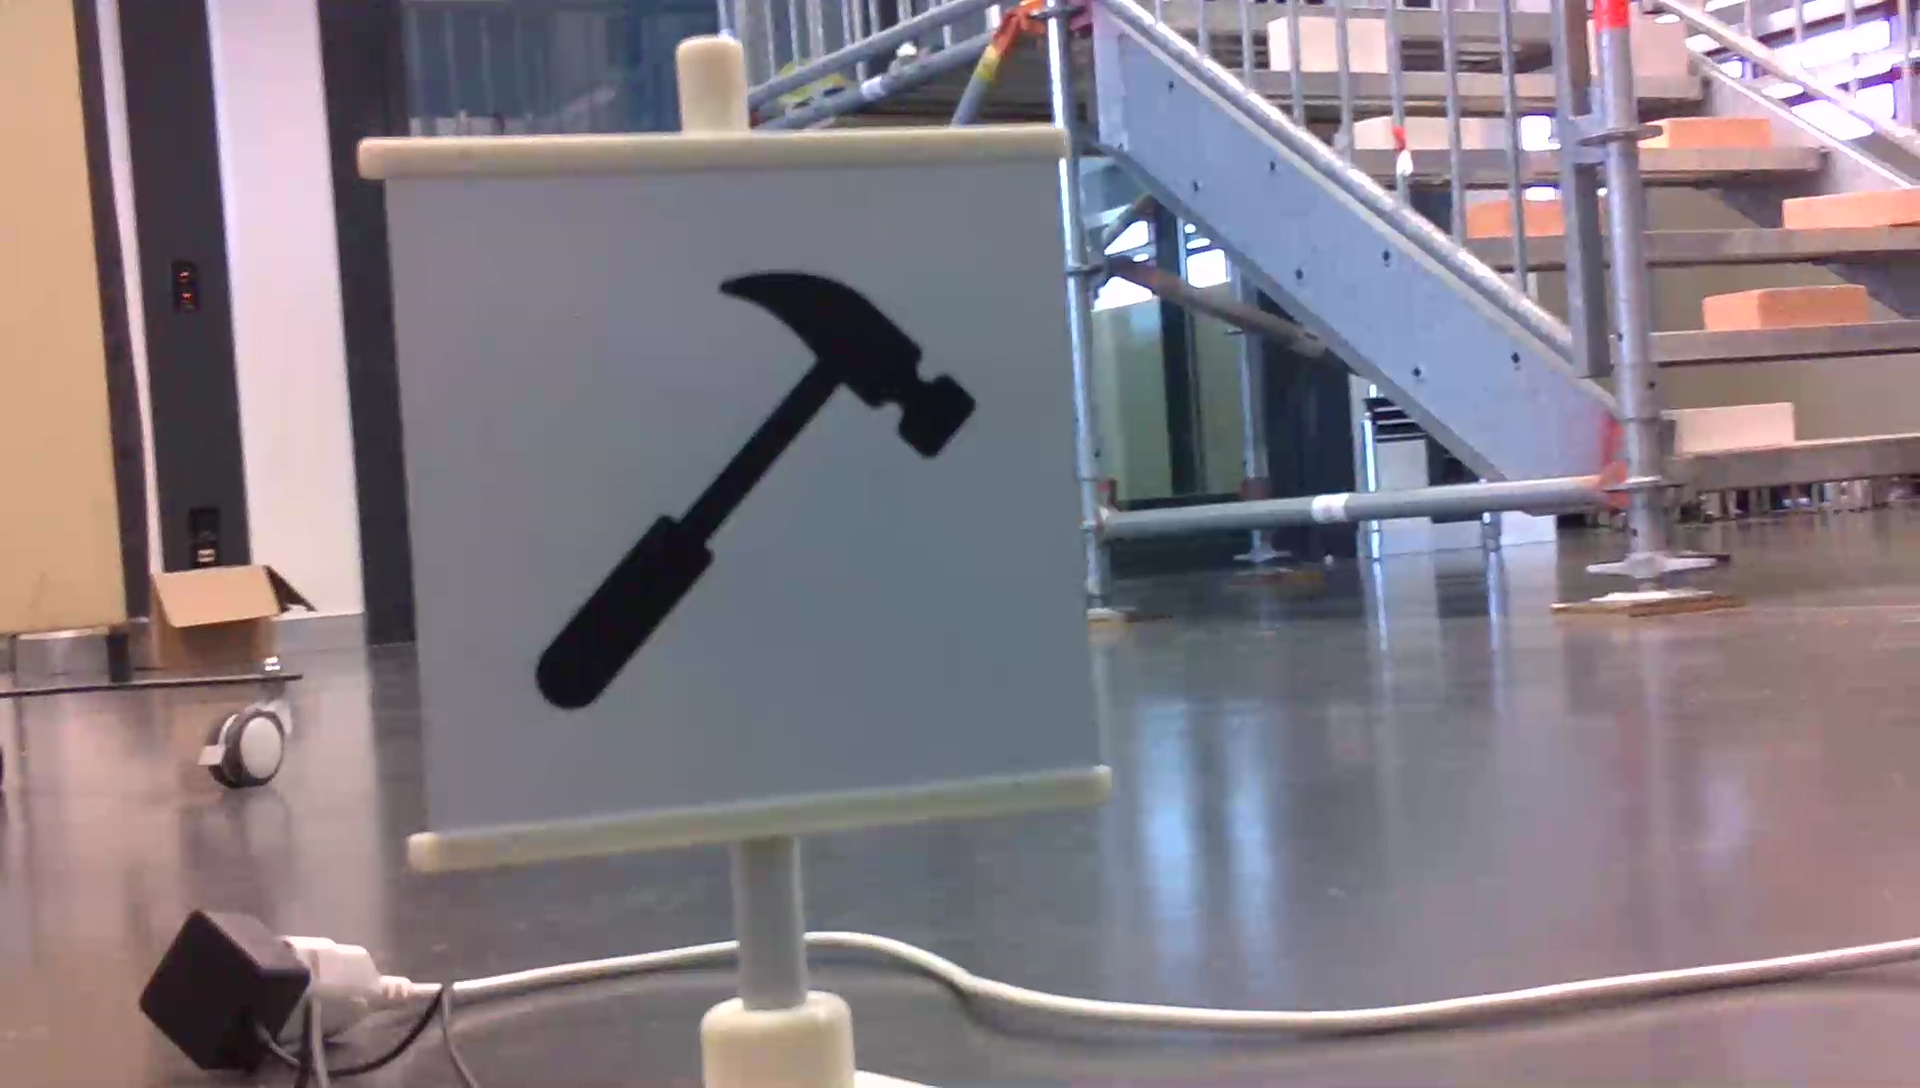brick: (1702, 282, 1865, 330), (1675, 402, 1791, 454), (1783, 190, 1920, 226), (1650, 119, 1766, 150), (1629, 22, 1683, 78)
hammer: (522, 260, 992, 713)
